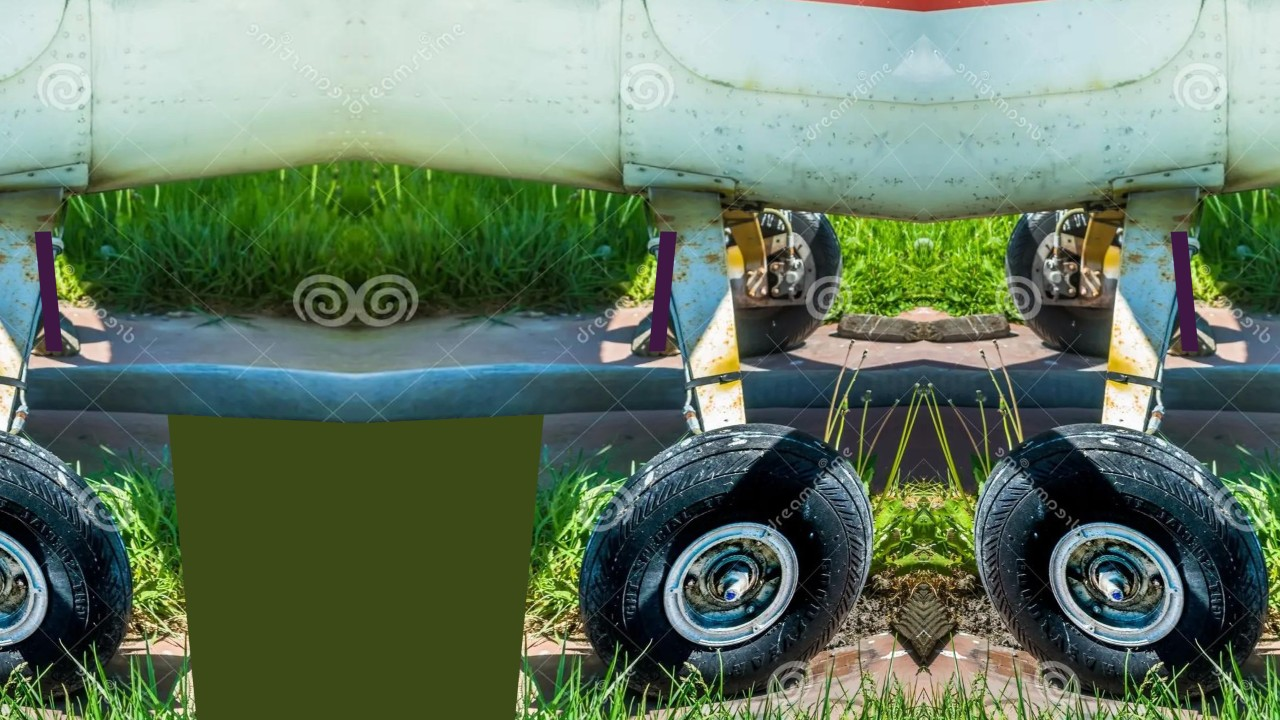chock: (160, 577, 356, 720), (356, 577, 551, 720), (23, 291, 84, 363), (627, 291, 688, 363), (1160, 291, 1221, 363)
wheel: (564, 418, 883, 718), (965, 418, 1280, 718), (0, 418, 147, 718), (727, 207, 845, 352), (1003, 207, 1121, 352)
